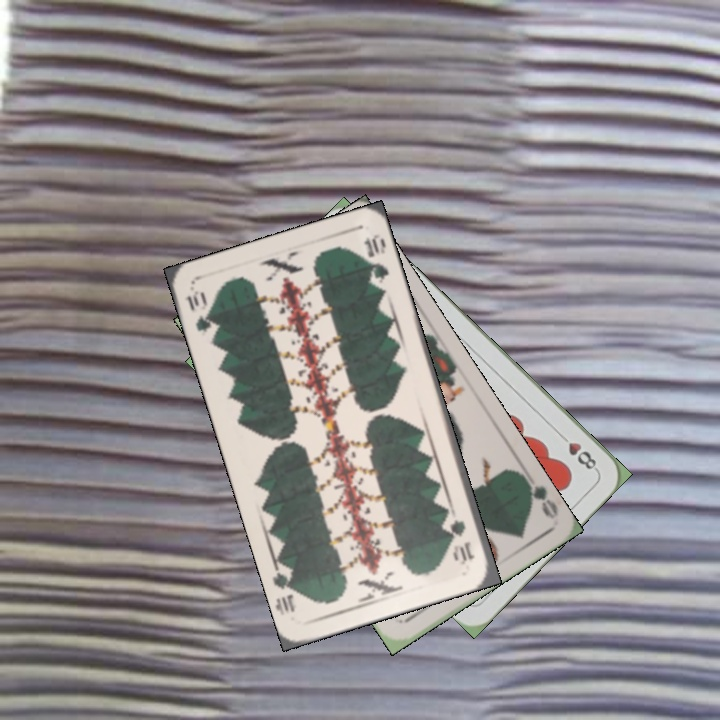G10: (446, 515, 478, 567), (182, 286, 216, 334)
GO: (516, 469, 561, 521)
H8: (553, 428, 600, 473)
